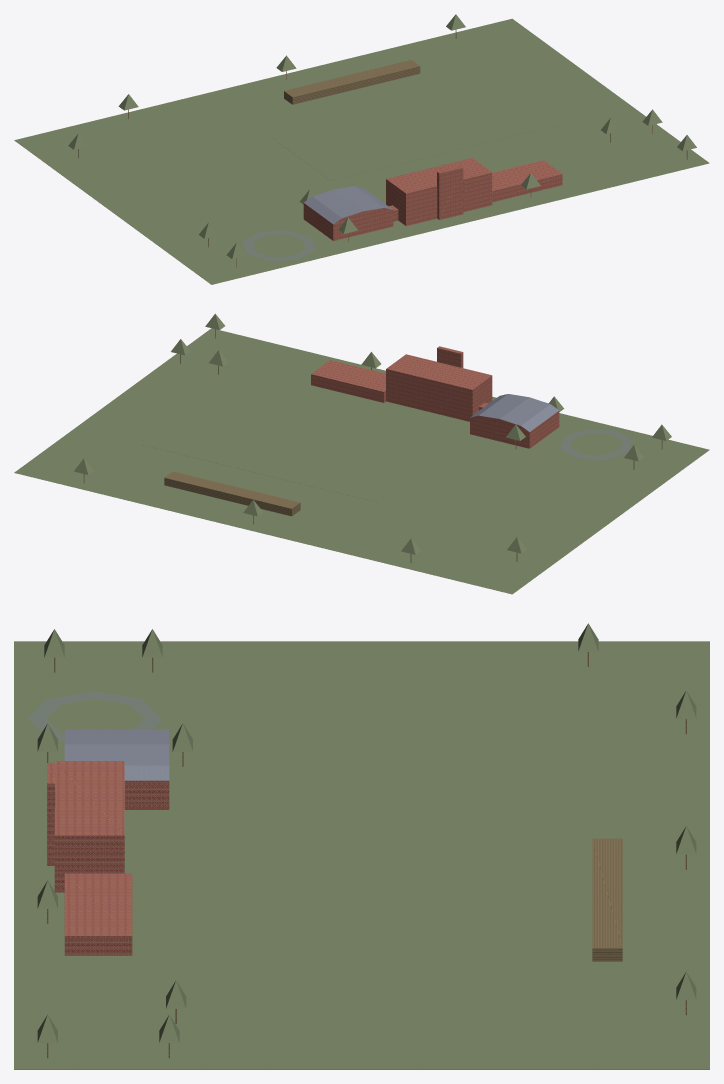
The model's file is school-far.glb.
3 renders of one model, top to bottom at view 1: azimuth 30°, elevation 25°; view 2: azimuth 150°, elevation 25°; view 3: azimuth 270°, elevation 25°, orthographic. The views are drawn at different scales.
Parts seen in each view (by area): view 1: Far grounds, Far field, Far main, Far bleachers, Far wing, Far gym, Far tower, Far gym bow.002, Far gym bow.001; view 2: Far grounds, Far field, Far main, Far bleachers, Far wing, Far gym, Far gym bow.002, Far gym bow.001, Far tower; view 3: Far grounds, Far field, Far main, Far wing, Far bleachers, Far gym bow.001, Far gym bow.002, Far gym, Far tower, Far gym bow.
Boxes of the visible parts, x1,y1,x2,y2 form: Far grounds: (14,18,709,284); Far field: (271,79,565,180); Far main: (386,158,492,225); Far bleachers: (284,60,420,104); Far wing: (492,160,562,202); Far gym: (303,203,393,240); Far tower: (437,166,463,219); Far gym bow.002: (313,189,362,217); Far gym bow.001: (334,186,383,211); Far grounds: (14,328,709,594); Far field: (142,401,436,502); Far main: (386,354,492,421); Far bleachers: (164,471,300,516); Far wing: (311,360,385,402); Far gym: (470,411,559,448); Far gym bow.002: (500,397,550,425); Far gym bow.001: (479,394,528,418); Far tower: (437,346,463,367); Far grounds: (14,641,709,1069); Far field: (284,809,496,1011); Far main: (54,761,124,892); Far wing: (64,873,132,955); Far bleachers: (592,838,622,961); Far gym bow.001: (64,744,169,765); Far gym bow.002: (64,729,169,744); Far gym: (124,780,169,809); Far tower: (47,763,55,865); Far gym bow: (124,765,169,780).
Size of the model in its own units: 233 by 20.87 by 160.
5 materials, 5 textured.
